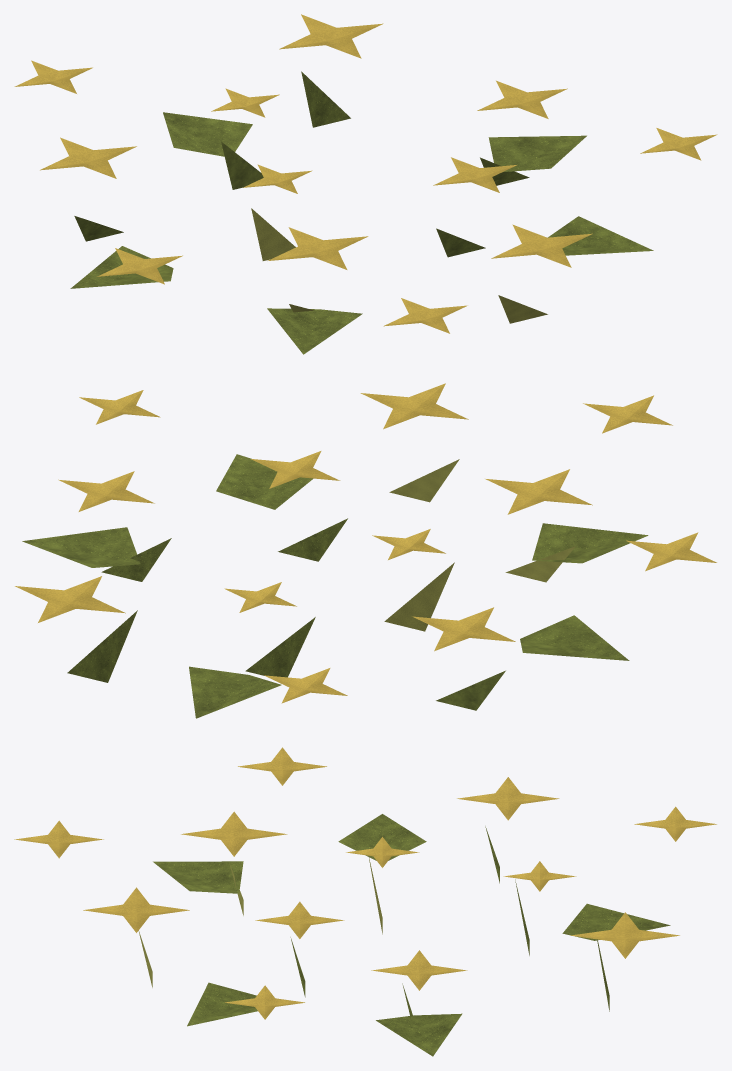
Rendered from grass-3.fbx.
3 views of the same model, one above another, from view 1: azimuth 30°, elevation 25°; view 2: azimuth 150°, elevation 25°; view 3: azimuth 270°, elevation 25° (orthographic). The views are drawn at different scales.
Visible parts, largest first — view 1: grass-3__Geometry; view 2: grass-3__Geometry; view 3: grass-3__Geometry.
Part boxes in pixels (bbox=[...]): grass-3__Geometry: bbox=[14, 14, 717, 354]; grass-3__Geometry: bbox=[15, 383, 716, 718]; grass-3__Geometry: bbox=[14, 747, 716, 1056].
Bounding box in the file's own units: 0.858 × 0.105 × 0.9356.
